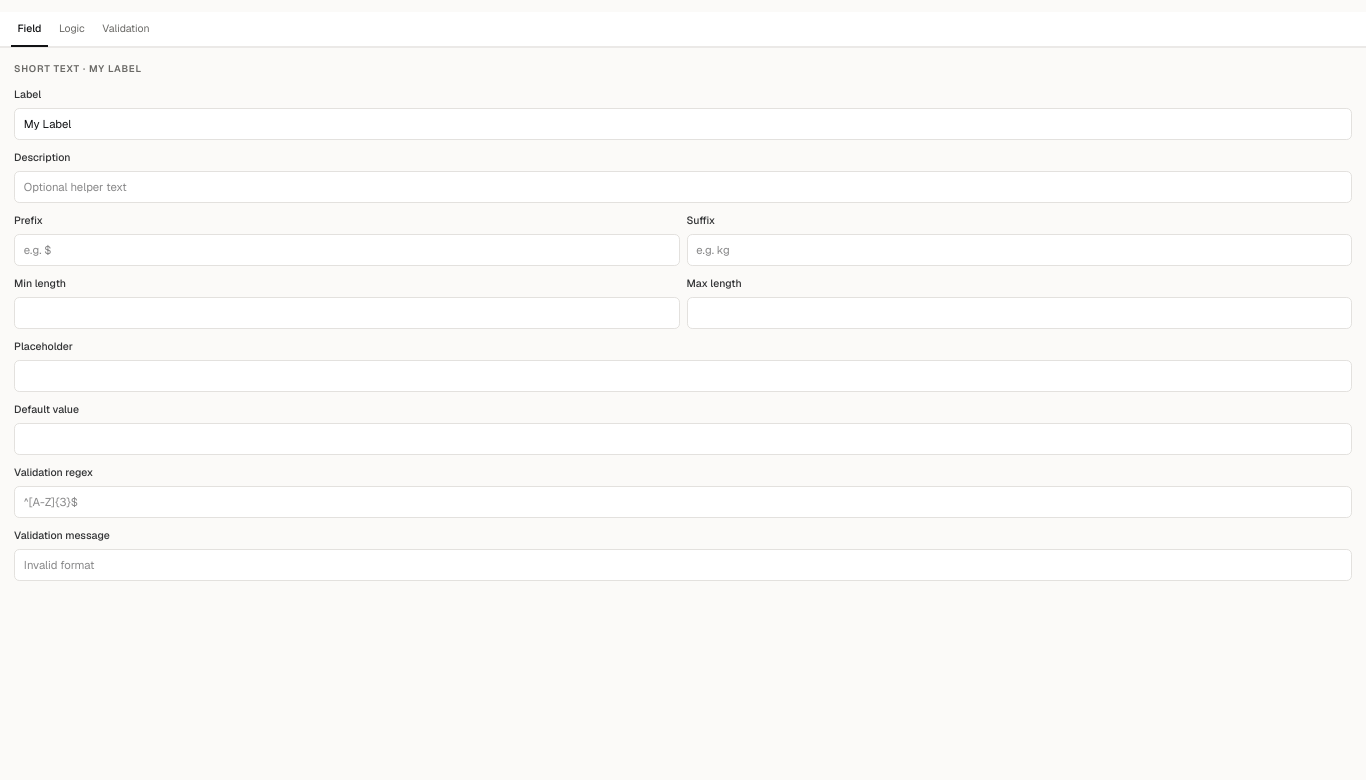
Test: ConfigPanel › tabs › switches to Validation tab when clicked
Click the button "Validation": (126, 30) [95,12,156,47]
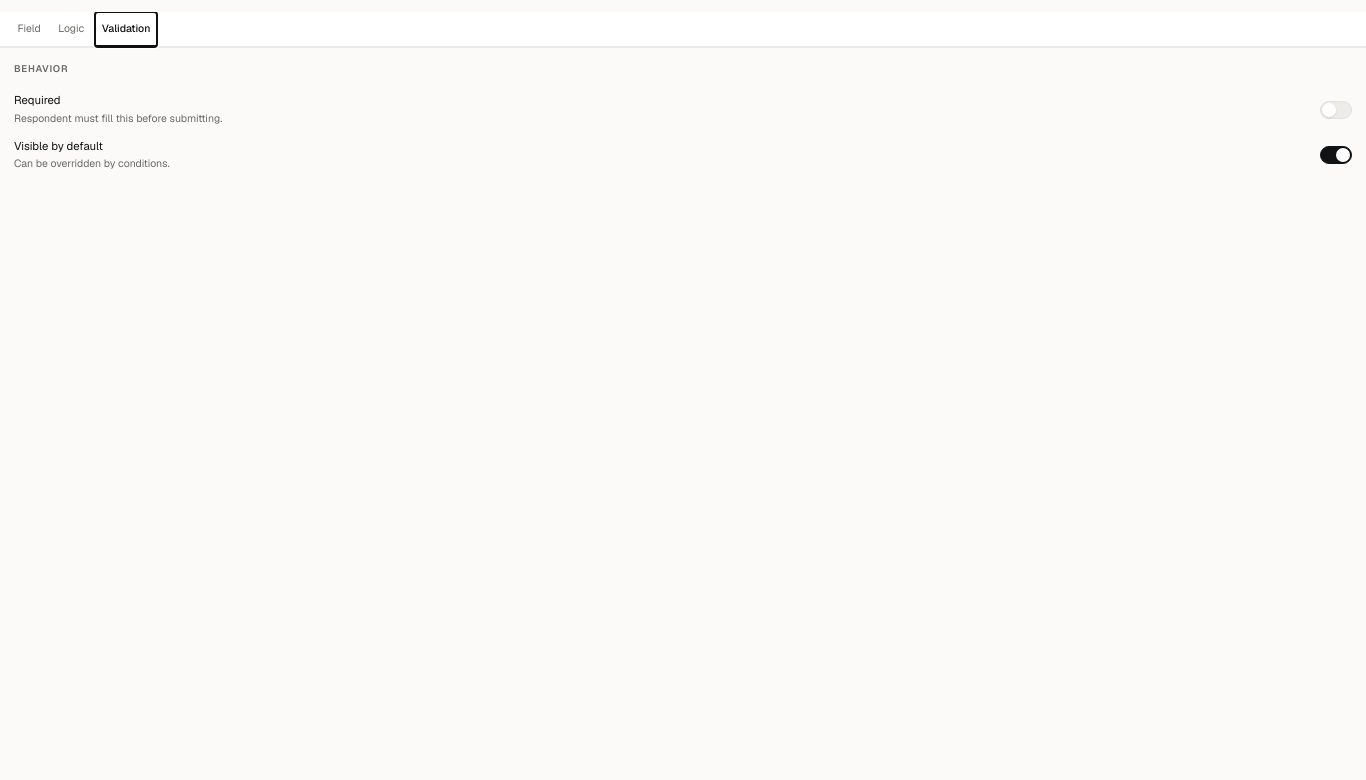
expect the text "Required" is shown: met, box [14,93,61,107]
